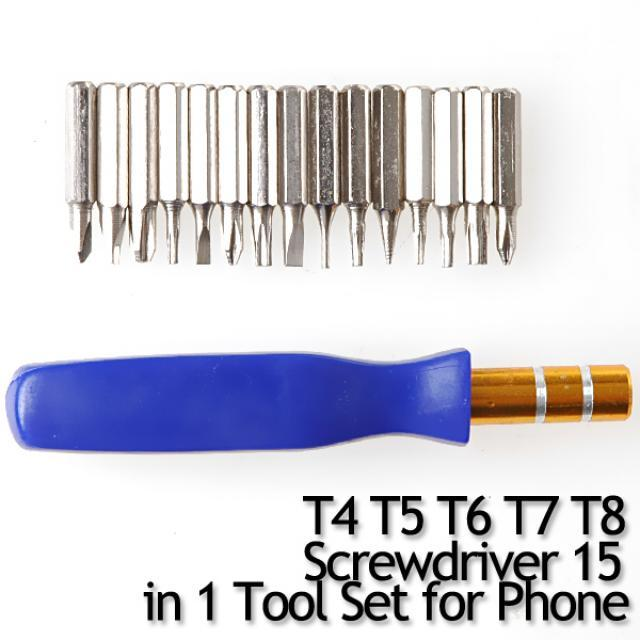screwdriver: (5, 313, 638, 472)
